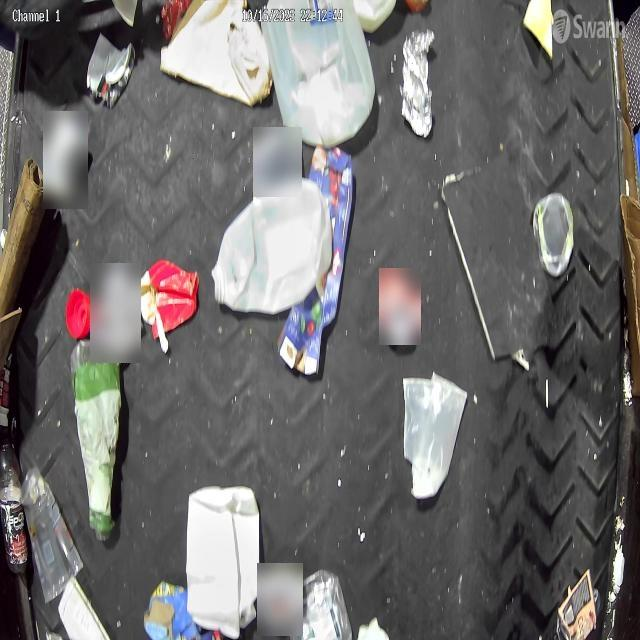milk_jug: (214, 176, 330, 314), (264, 7, 376, 146)
plastic_bottle: (0, 432, 29, 574)
